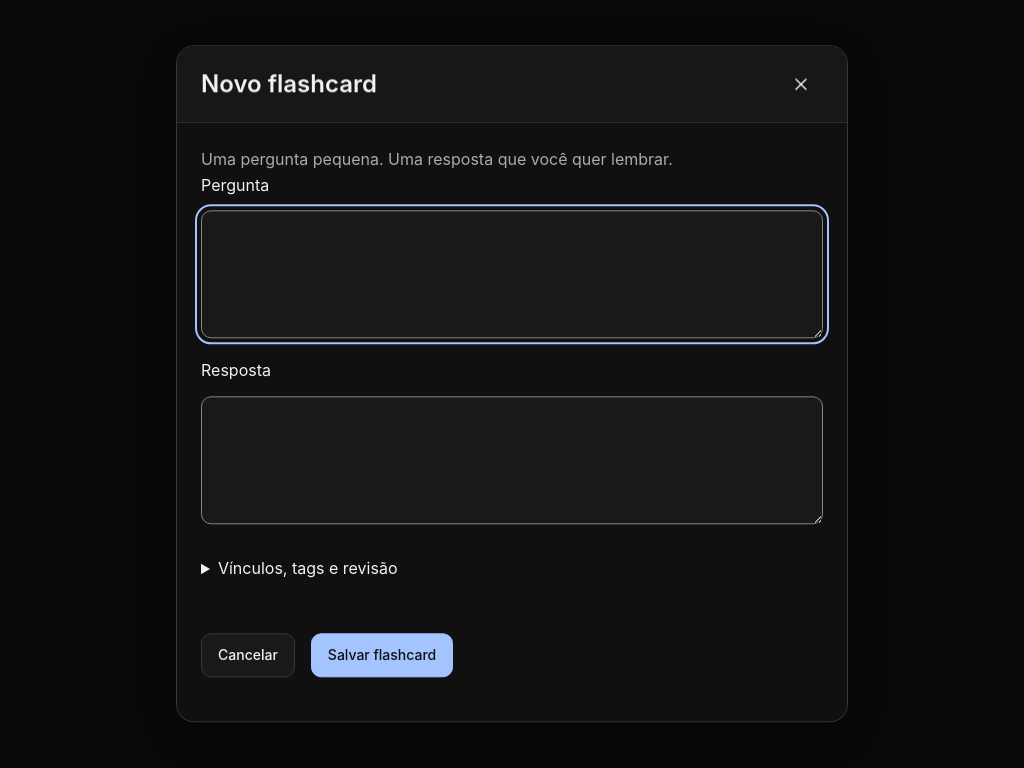
Test: flashcard mantém pergunta e resposta diante de falha, sem fechar formulário
Type "Pergunta" into the text box labelled "Pergunta" at (512, 274), box [201,210,823,338]
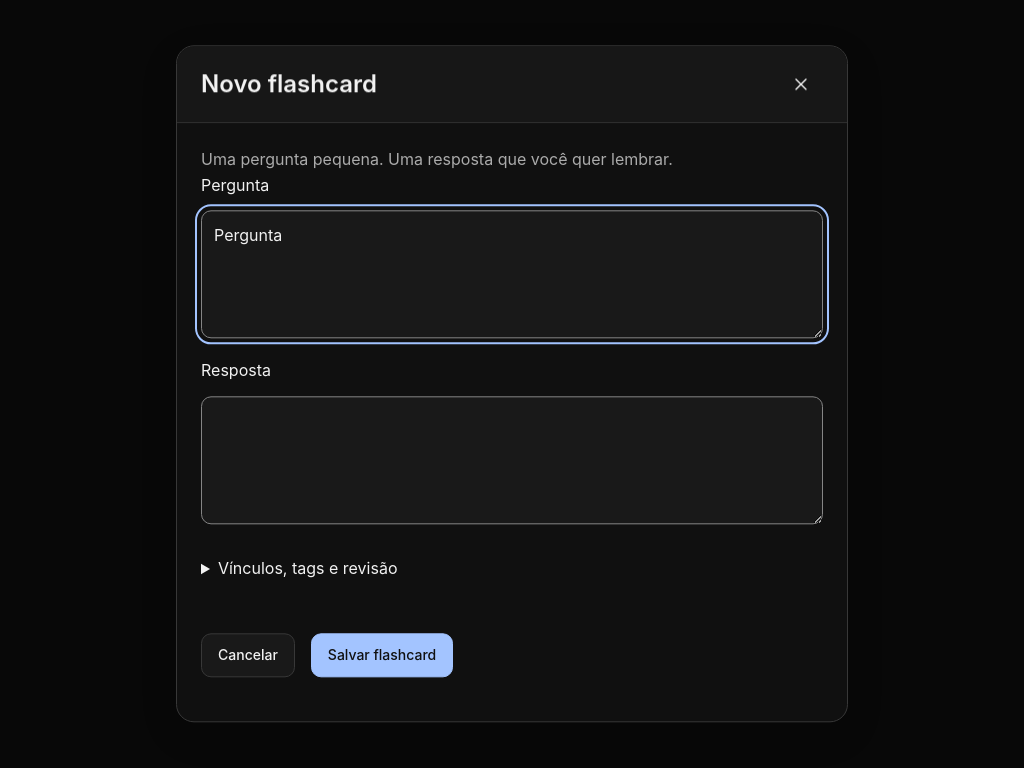
Type "Resposta" into the text box labelled "Resposta" at (512, 460), box [201,396,823,524]
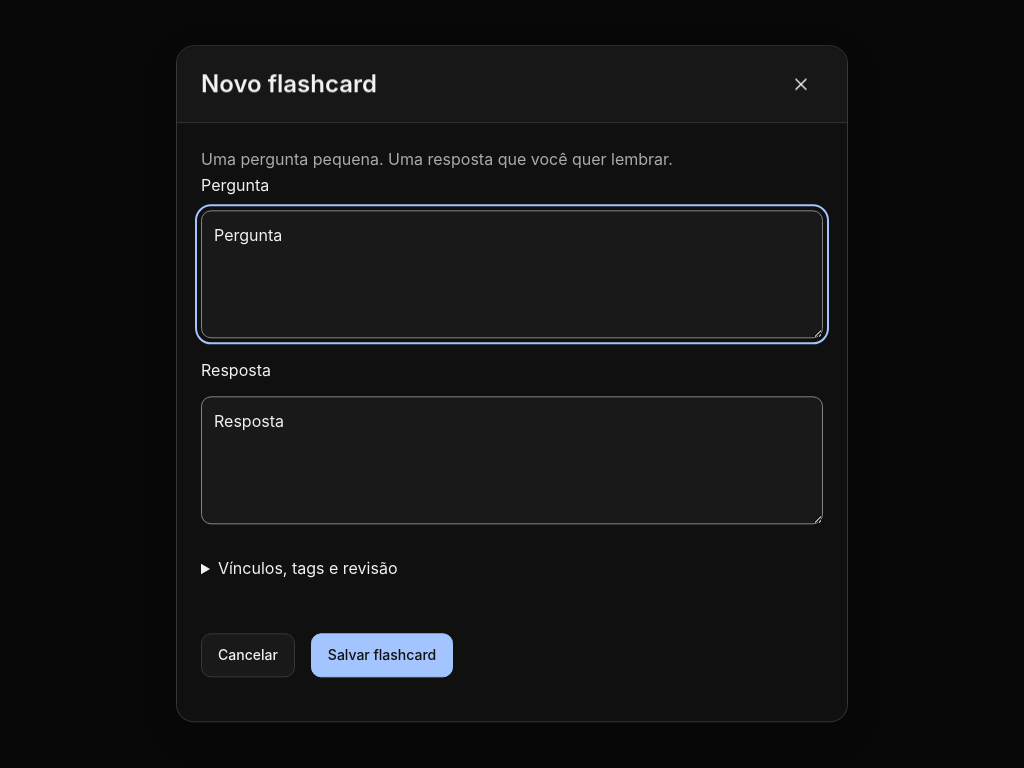
Submit the form "Salvar flashcard", box [201,173,823,698]
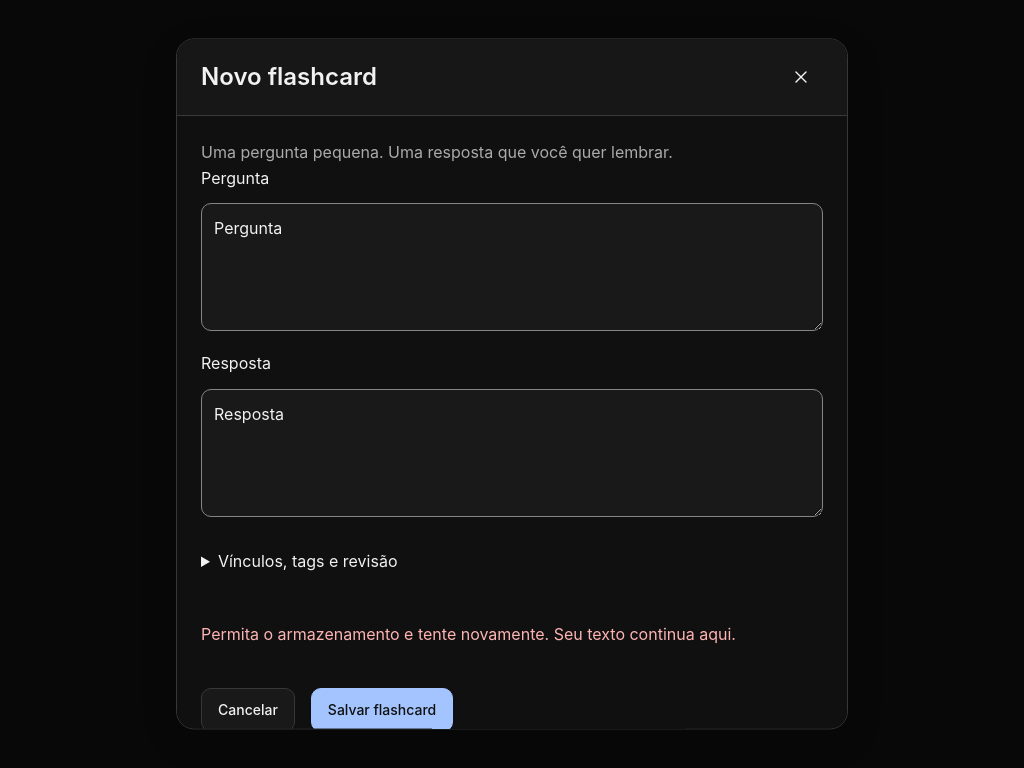
Now the message shows "Permita o armazenamento", box [201,625,549,645]
